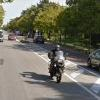Motorcycle: (38, 37, 73, 85)
